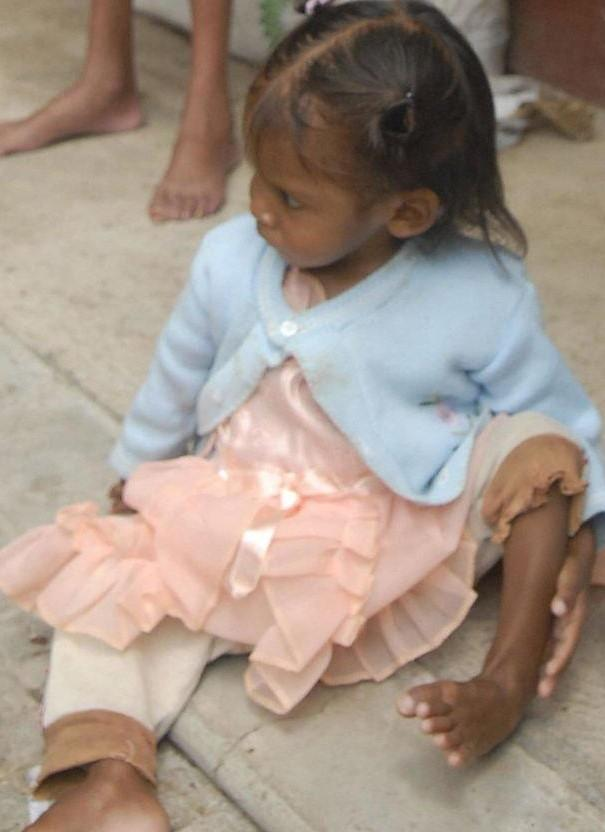Stunting: (210, 0, 506, 298)
